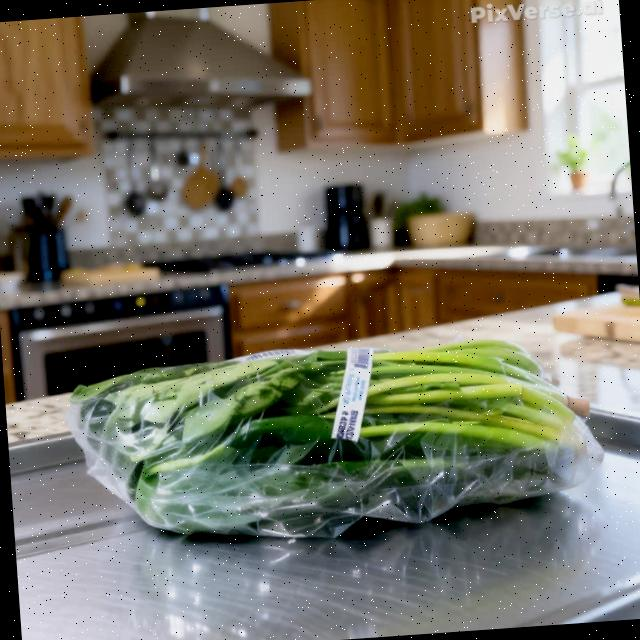spinach: (35, 282, 640, 600)
